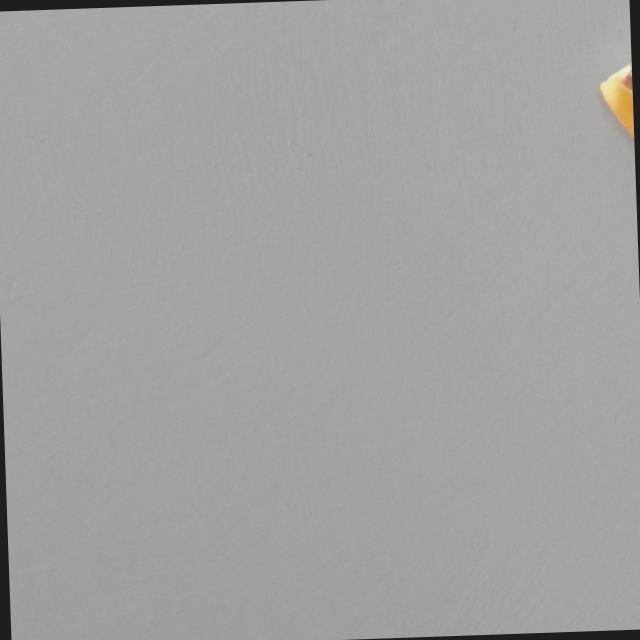dañado: (592, 26, 634, 156)
